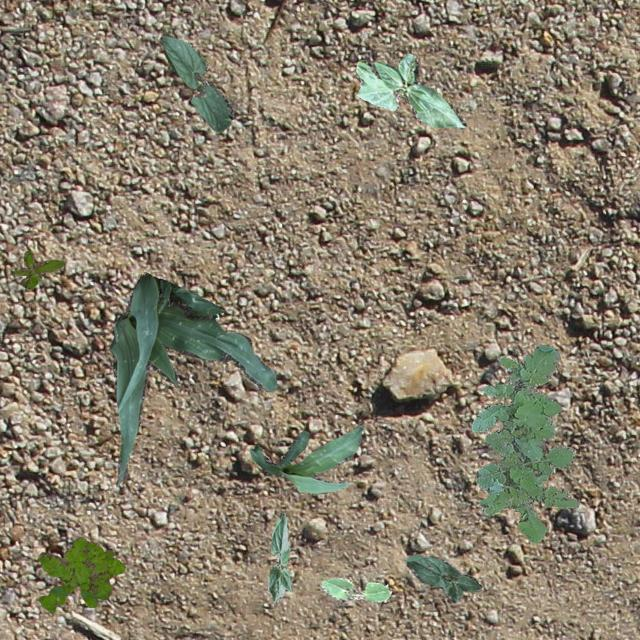crop: (108, 272, 276, 486), (354, 51, 466, 128), (248, 422, 364, 494), (158, 34, 234, 130), (402, 552, 480, 602), (266, 512, 290, 602), (318, 576, 391, 602)
weed: (471, 344, 578, 542), (38, 536, 124, 612), (12, 250, 64, 288)
